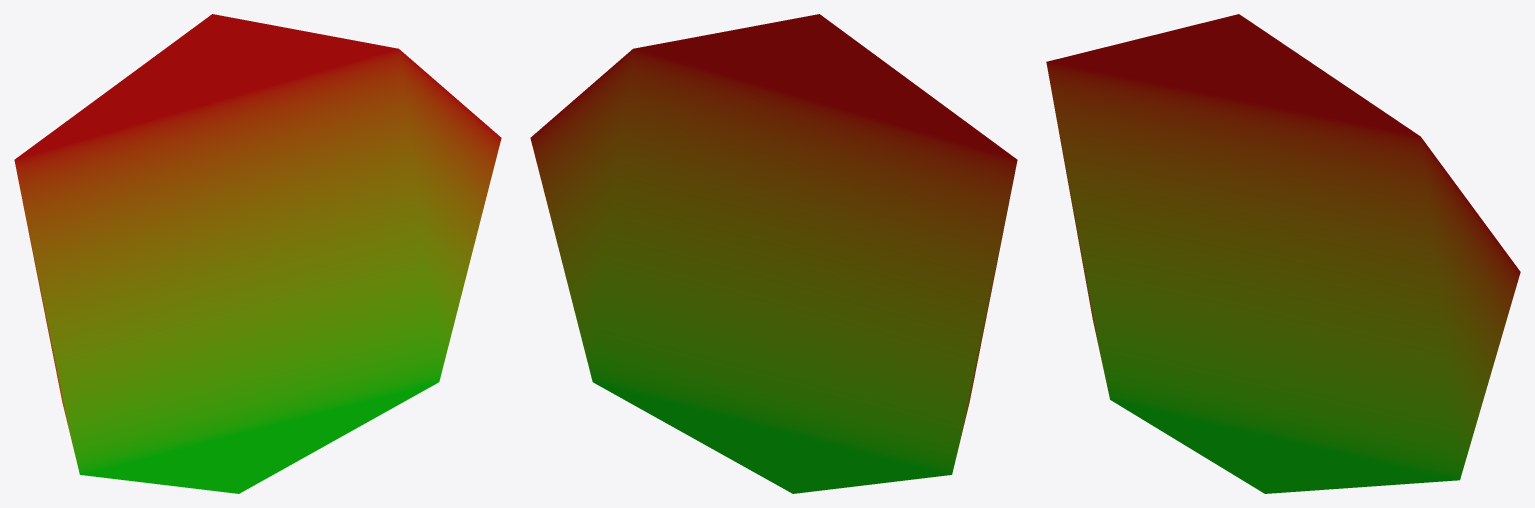
File: Dead Finish_LOD3_Var5_ucokaamia.fbx
The picture shows the model from 3 angles, left to right: view 1: azimuth 30°, elevation 25°; view 2: azimuth 150°, elevation 25°; view 3: azimuth 330°, elevation 25°; orthographic projection. The views are drawn at different scales.
Parts seen in each view (by area): view 1: _92li_Var5_LOD3; view 2: _92li_Var5_LOD3; view 3: _92li_Var5_LOD3.
Part boxes in pixels (x1,y1,x2,y2): _92li_Var5_LOD3: (14,14,501,493); _92li_Var5_LOD3: (530,14,1017,493); _92li_Var5_LOD3: (1046,14,1520,493).
Size of the model in its own units: 35.04 by 33.43 by 9.85e-06.
